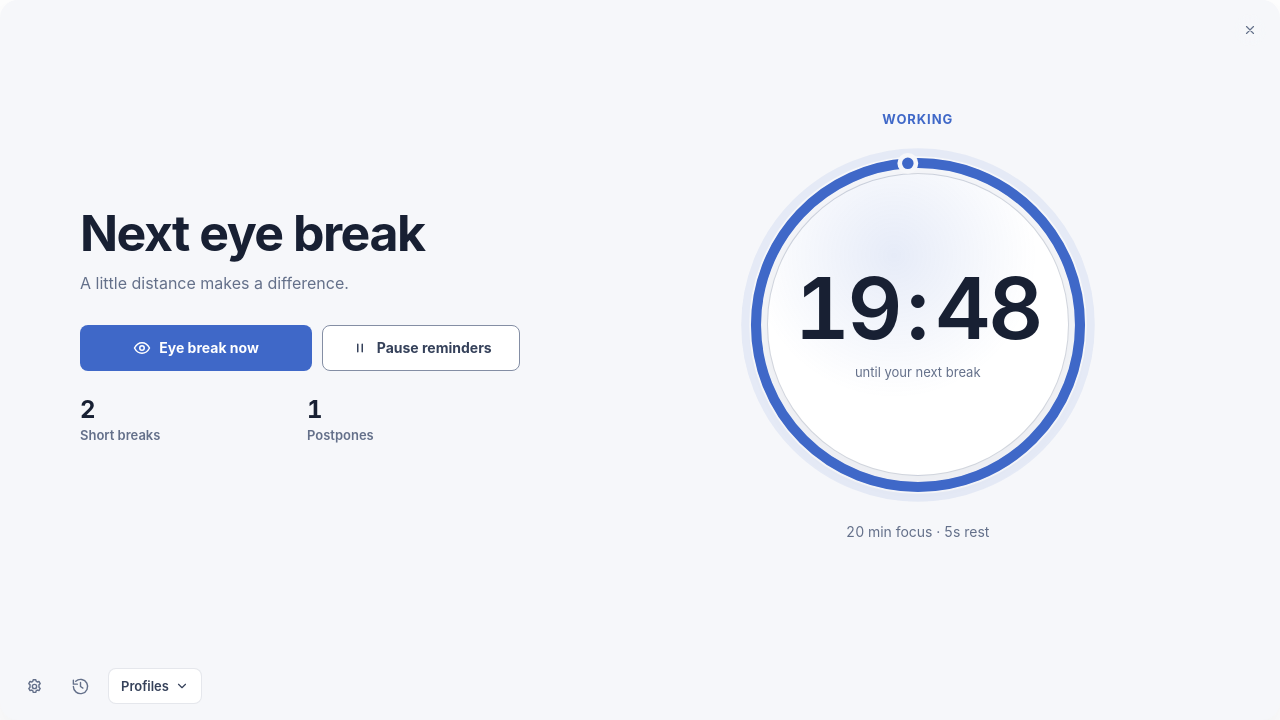
Test: PausIO app experience › disables the stepper button at each bound, instead of silently doing nothing
Expected: the heading "Next eye break" is shown, [80, 203, 424, 263]
Click the button named "Settings" at (34, 686), box [16, 668, 52, 704]
(page scrolled)
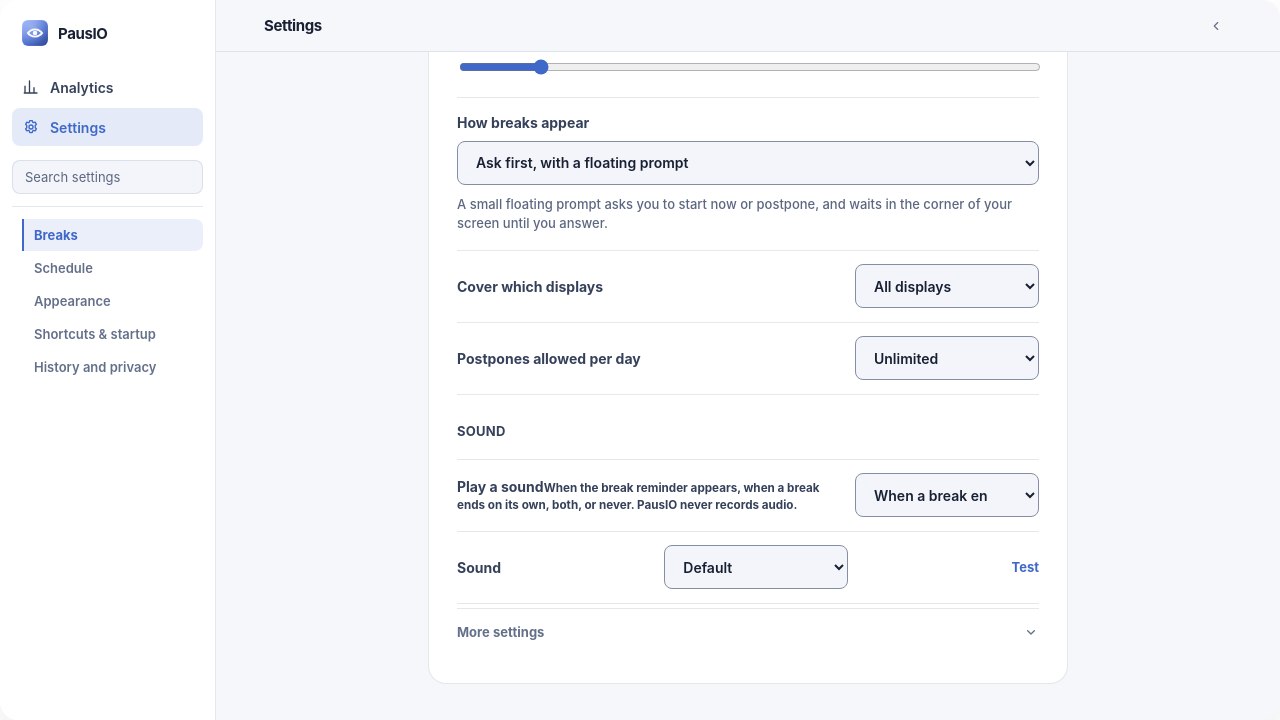
Click the button "More settings" at (501, 632), box [457, 609, 1039, 655]
(page scrolled)
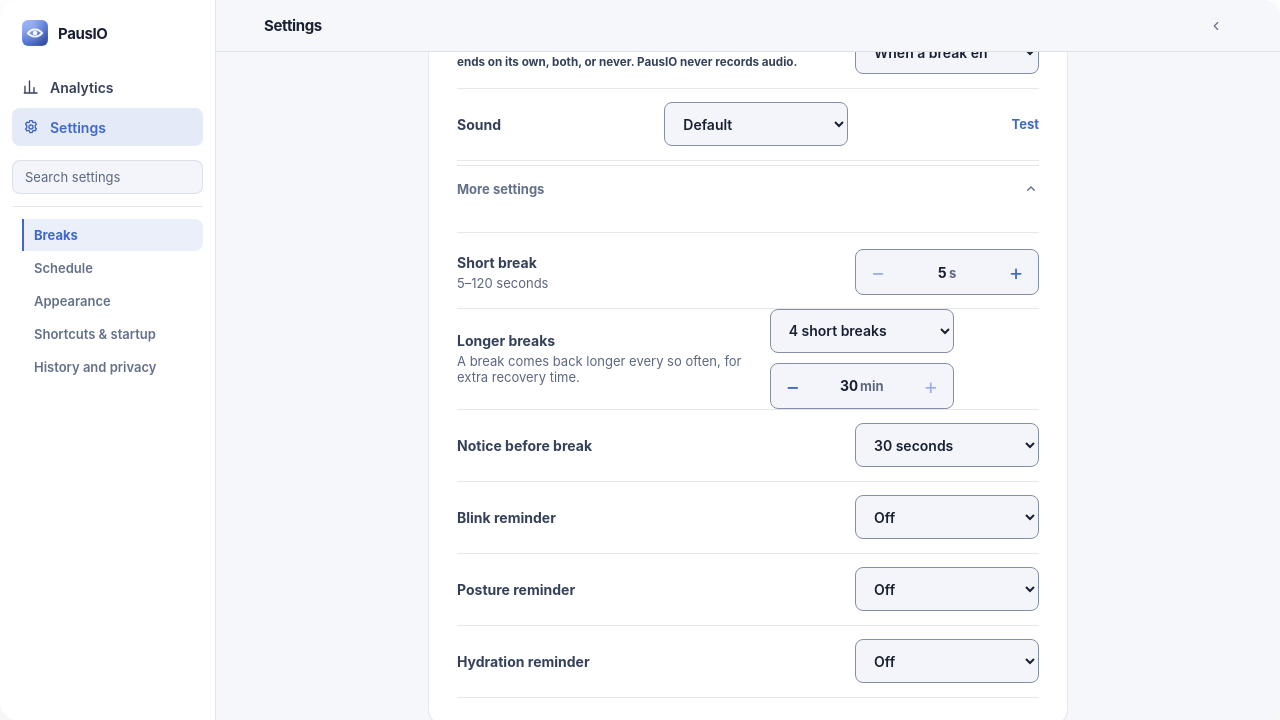
Expected: the button named "Decrease Short break" is disabled, [856, 250, 900, 294]
Expected: the button named "Increase Short break" is enabled, [994, 250, 1038, 294]
Expected: the button named "Increase Longer breaks" is disabled, [909, 364, 953, 408]
